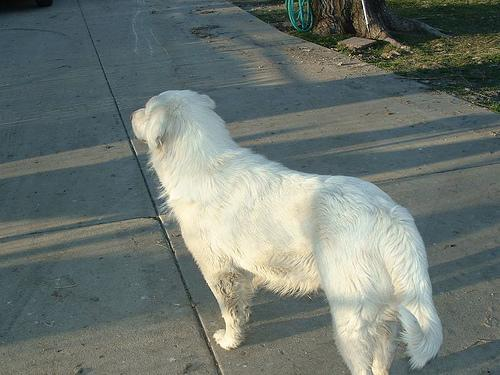Great_Pyrenees: (130, 88, 441, 373)
